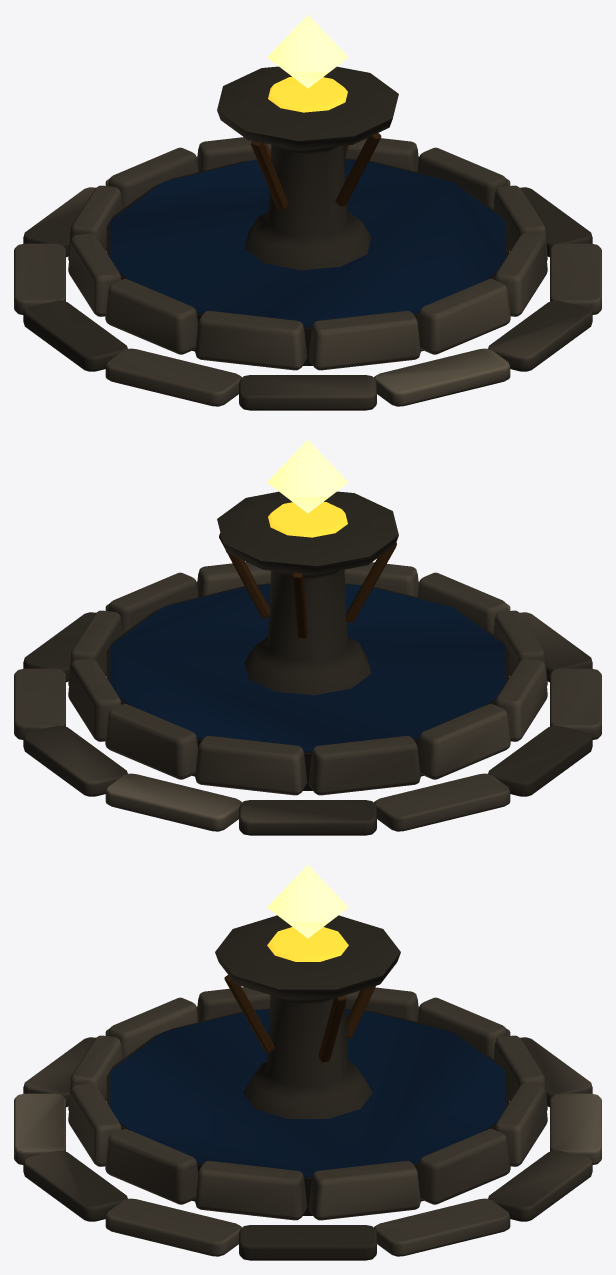
File: Fonte2.fbx
3 renders of one model, top to bottom at view 1: azimuth 30°, elevation 25°; view 2: azimuth 150°, elevation 25°; view 3: azimuth 270°, elevation 25°, orthographic.
Parts seen in each view (by area): view 1: Fonte2, Gem; view 2: Fonte2, Gem; view 3: Fonte2, Gem.
Part boxes in pixels (x1=…): Fonte2: x1=14, y1=66, x2=601, y2=410; Gem: x1=267, y1=15, x2=348, y2=88; Fonte2: x1=14, y1=491, x2=601, y2=835; Gem: x1=267, y1=440, x2=348, y2=513; Fonte2: x1=14, y1=915, x2=601, y2=1260; Gem: x1=267, y1=865, x2=348, y2=938.
Bounding box in the file's own units: 7.9 × 4.04 × 7.9.
